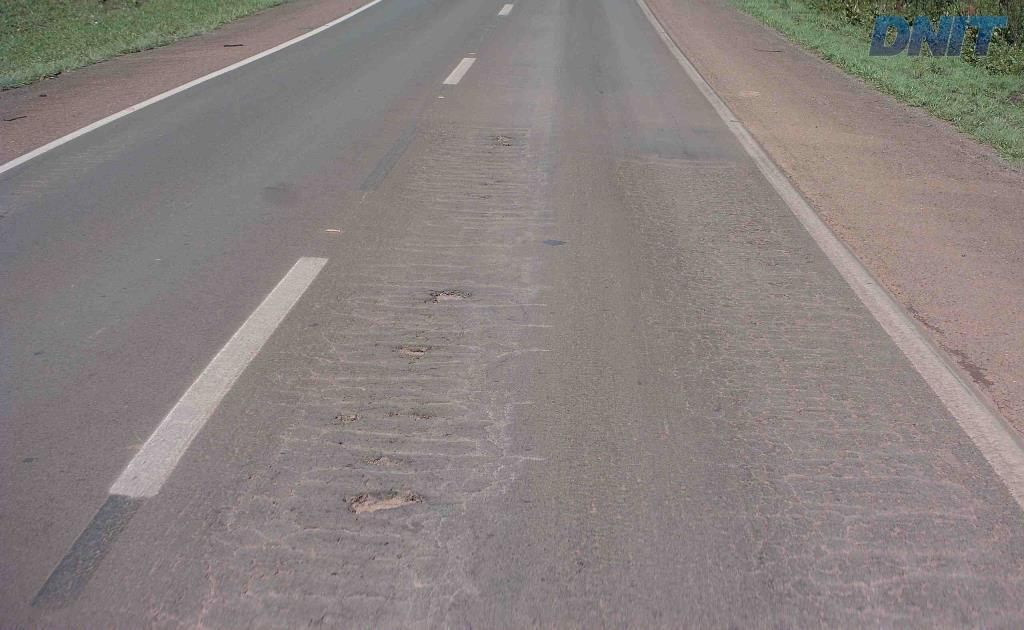pothole: (341, 486, 425, 519), (388, 339, 441, 362), (425, 283, 475, 307)
